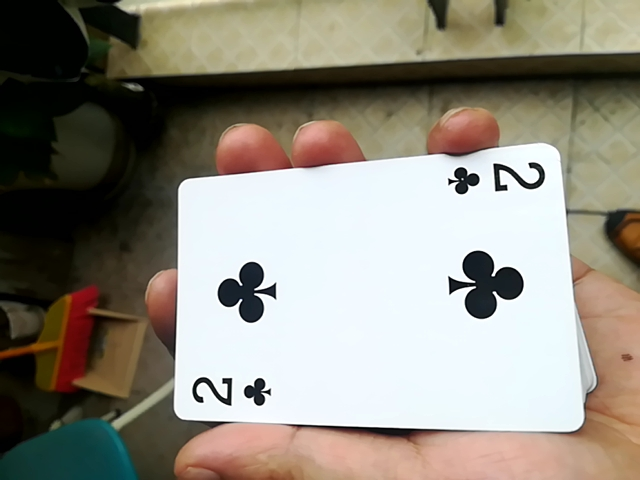mh 2: (166, 141, 579, 438)
